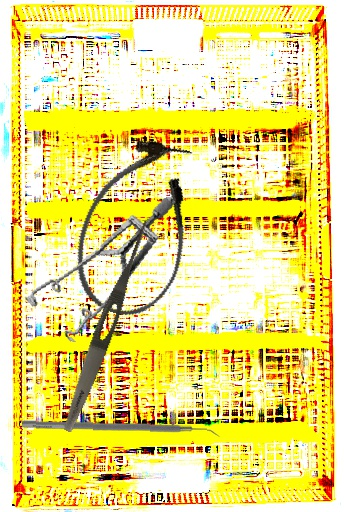Cannula: (59, 126, 216, 329)
Dressing Forceps: (58, 217, 154, 435)
Spatula Surgical: (21, 420, 222, 440)
Speculum: (10, 195, 199, 351)
